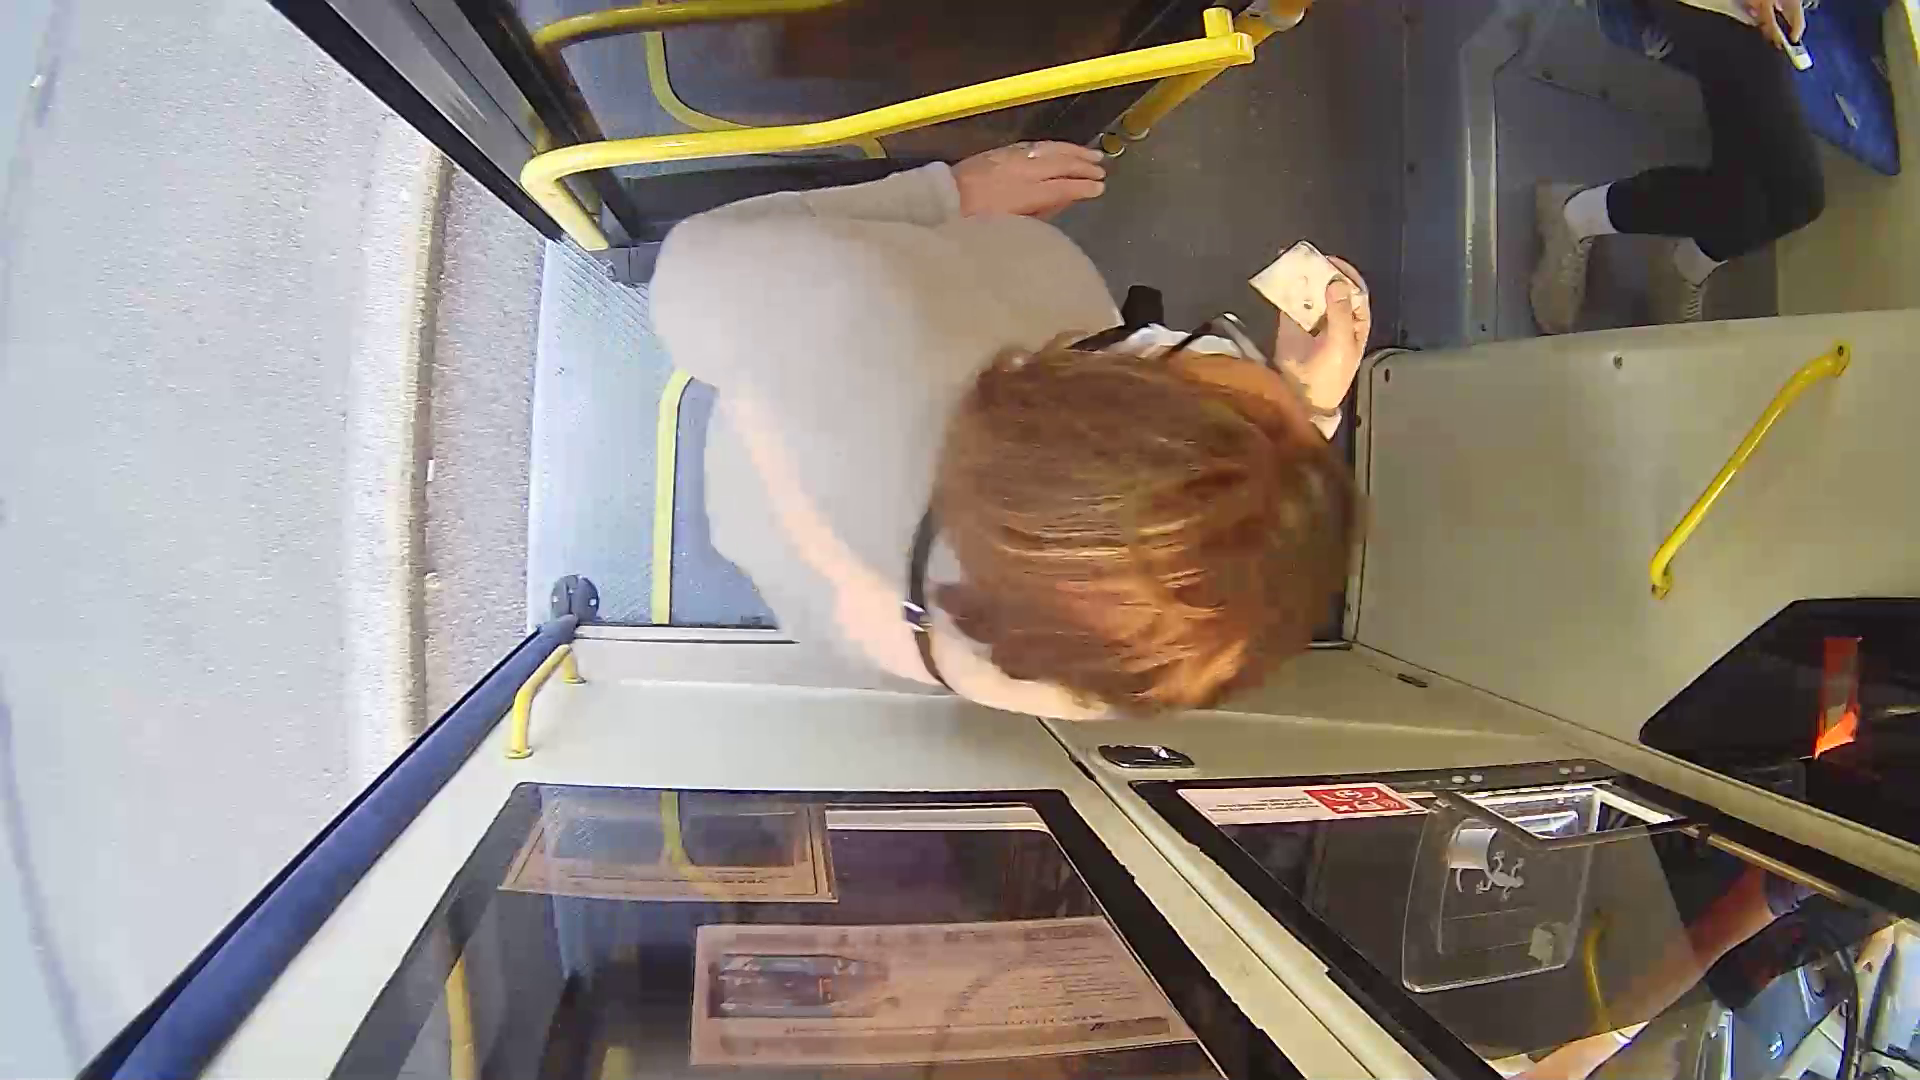person: (632, 165, 1374, 751)
